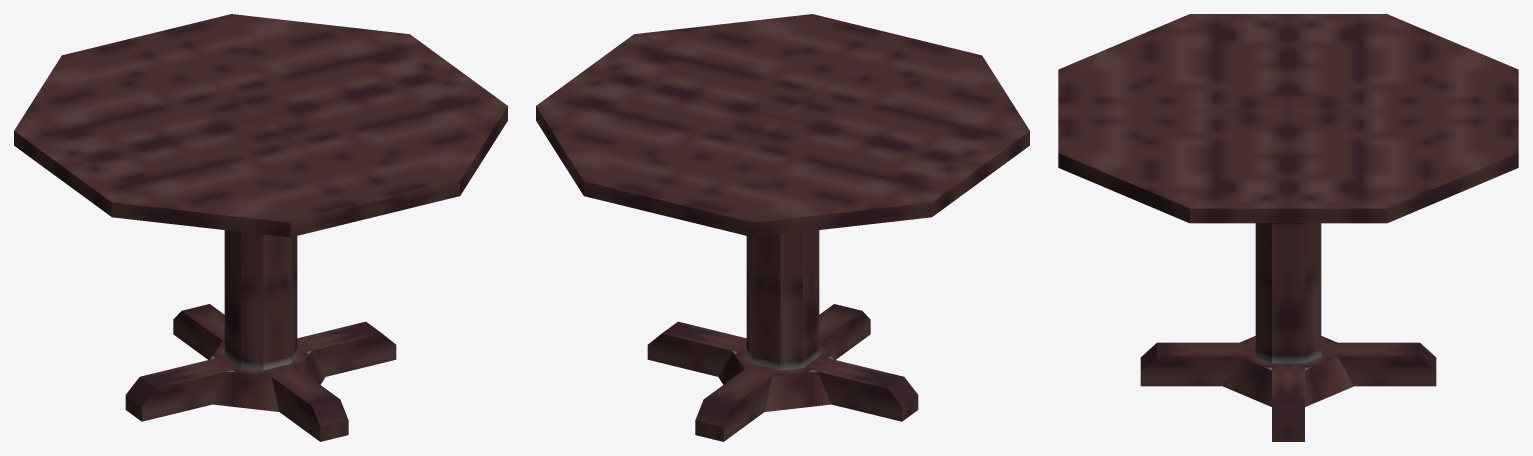
Rendered from RoundTableThin.fbx.
3 renders of one model, left to right at view 1: azimuth 30°, elevation 25°; view 2: azimuth 150°, elevation 25°; view 3: azimuth 270°, elevation 25°, orthographic.
Visible parts, largest first — view 1: Cube.003; view 2: Cube.003; view 3: Cube.003.
Part boxes in pixels (<box>): Cube.003: <box>14,14,507,441</box>; Cube.003: <box>536,14,1029,441</box>; Cube.003: <box>1058,14,1518,441</box>.
Size of the model in its own units: 1.75 by 1.75 by 1.12.
